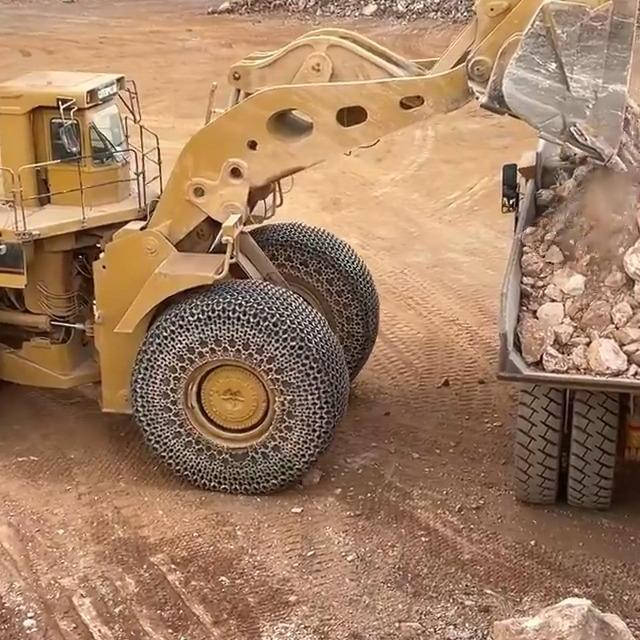dump truck: (496, 100, 640, 538)
wheel loader: (0, 0, 640, 500)
